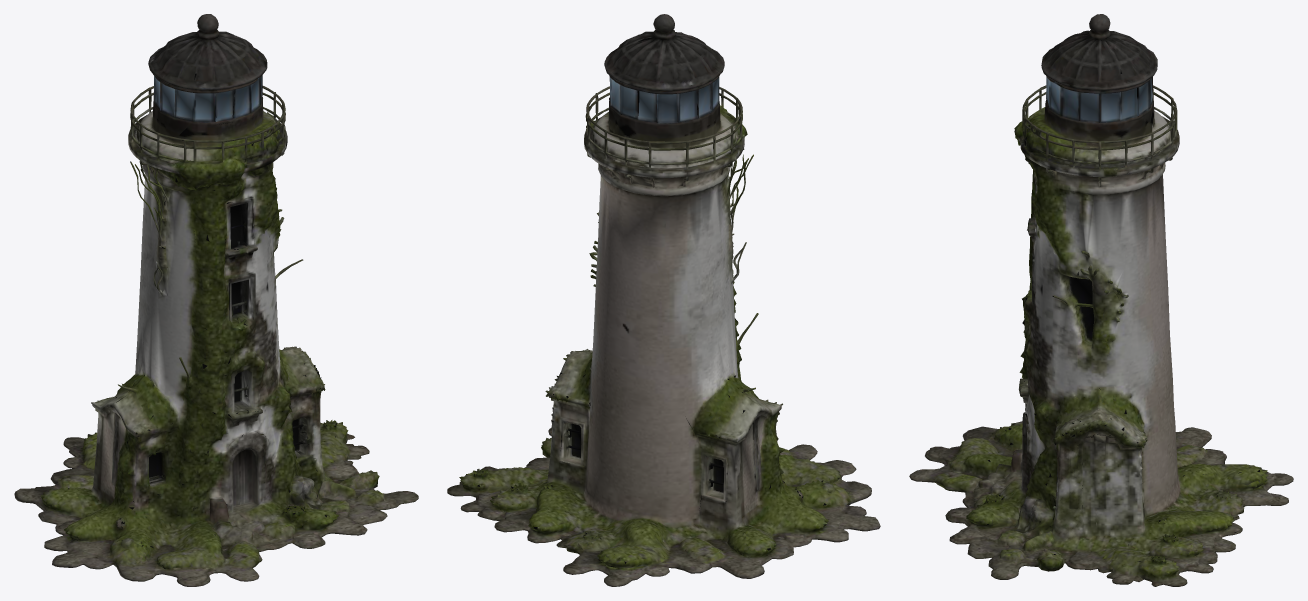
Rendered from lighthouse.glb.
The picture shows the model from 3 angles, left to right: view 1: azimuth 30°, elevation 25°; view 2: azimuth 150°, elevation 25°; view 3: azimuth 270°, elevation 25°; orthographic projection.
Parts seen in each view (by area): view 1: lo; view 2: lo; view 3: lo.
Boxes of the visible parts, bbox=[...] form: lo: bbox=[14, 14, 418, 586]; lo: bbox=[447, 14, 880, 586]; lo: bbox=[909, 14, 1293, 586].
Size of the model in its own units: 0.7592 by 0.9809 by 0.7008.
Materials: 1 (1 with a texture image).
